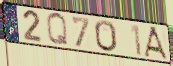1: (130, 24, 143, 57)
2: (23, 9, 44, 45)
7: (71, 15, 91, 50)
A: (143, 26, 169, 62)
O: (94, 19, 119, 54)
Q: (45, 11, 70, 47)
